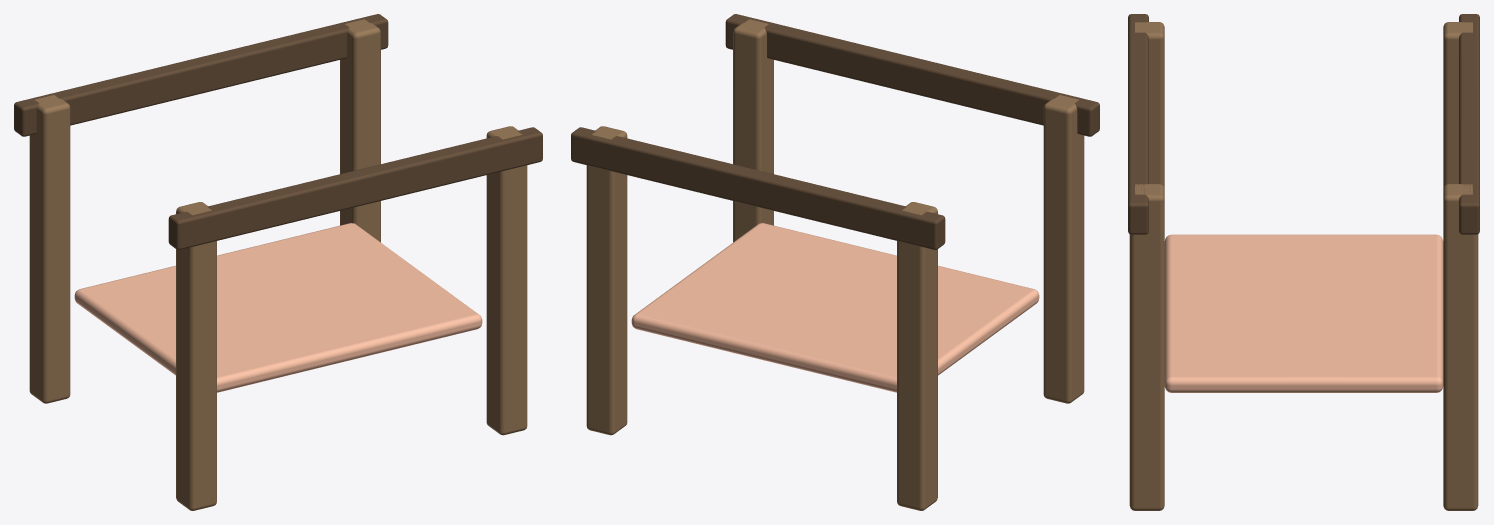
File: sand_sifter.gltf
3 views of the same model, side by side, from view 1: azimuth 30°, elevation 25°; view 2: azimuth 150°, elevation 25°; view 3: azimuth 270°, elevation 25° (orthographic). The views are drawn at different scales.
Visible parts, largest first — view 1: Funnel.001, Rail-1, Leg-11, Rail1, Leg1-1, Leg-1-1, Leg11; view 2: Funnel.001, Rail1, Leg-1-1, Rail-1, Leg11, Leg-11, Leg1-1; view 3: Funnel.001, Leg1-1, Leg11, Rail1, Rail-1, Leg-1-1, Leg-11.
Boxes of the visible parts, <box> form: Funnel.001: <box>74,223,482,392</box>; Rail-1: <box>168,127,542,249</box>; Leg-11: <box>29,95,70,403</box>; Rail1: <box>14,14,388,136</box>; Leg1-1: <box>486,126,527,435</box>; Leg-1-1: <box>176,202,216,510</box>; Leg11: <box>340,19,380,242</box>; Funnel.001: <box>631,223,1039,392</box>; Rail1: <box>571,127,945,249</box>; Leg-1-1: <box>1043,95,1084,403</box>; Rail-1: <box>725,14,1099,136</box>; Leg11: <box>586,126,627,435</box>; Leg-11: <box>897,202,937,510</box>; Leg1-1: <box>733,19,773,242</box>; Funnel.001: <box>1164,234,1443,392</box>; Leg1-1: <box>1129,184,1164,510</box>; Leg11: <box>1443,184,1478,510</box>; Rail1: <box>1459,14,1479,234</box>; Rail-1: <box>1128,14,1148,234</box>; Leg-1-1: <box>1135,22,1164,188</box>; Leg-11: <box>1443,22,1472,188</box>.
Size of the model in its own units: 0.26 by 0.2 by 0.202.
